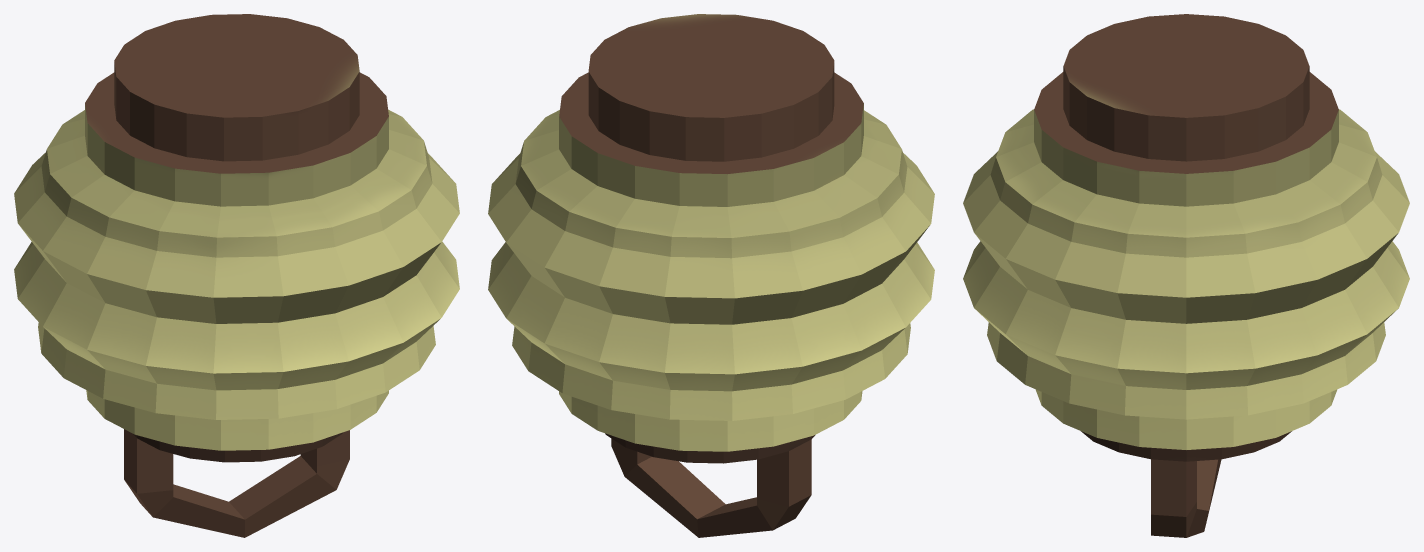
File: lanterna2 1.fbx
The picture shows the model from 3 angles, left to right: view 1: azimuth 30°, elevation 25°; view 2: azimuth 150°, elevation 25°; view 3: azimuth 270°, elevation 25°; orthographic projection.
Parts seen in each view (by area): view 1: Cylinder; view 2: Cylinder; view 3: Cylinder.
Boxes of the visible parts, left/top/right/bottom form: Cylinder: left=14, top=14, right=459, bottom=537; Cylinder: left=488, top=14, right=934, bottom=537; Cylinder: left=963, top=14, right=1409, bottom=537.
Size of the model in its own units: 293 by 336 by 293.
1 material, 1 textured.
